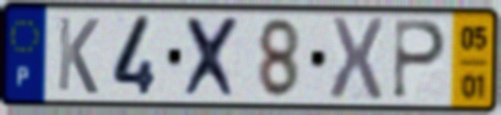4: (109, 12, 163, 102)
8: (254, 16, 303, 102)
K: (54, 14, 102, 97)
P: (390, 17, 450, 103)
X: (181, 14, 246, 102), (326, 14, 386, 105)
